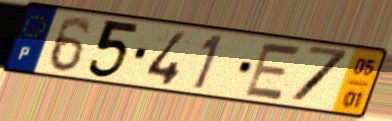1: (193, 33, 226, 93)
4: (143, 28, 190, 87)
5: (86, 18, 145, 81)
6: (48, 15, 93, 75)
7: (290, 43, 352, 108)
E: (240, 40, 306, 103)
